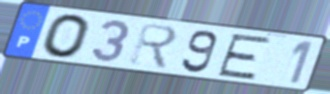1: (286, 39, 315, 86)
3: (89, 18, 132, 64)
9: (181, 30, 219, 73)
E: (215, 33, 274, 81)
O: (40, 13, 93, 60)
R: (126, 21, 180, 71)
